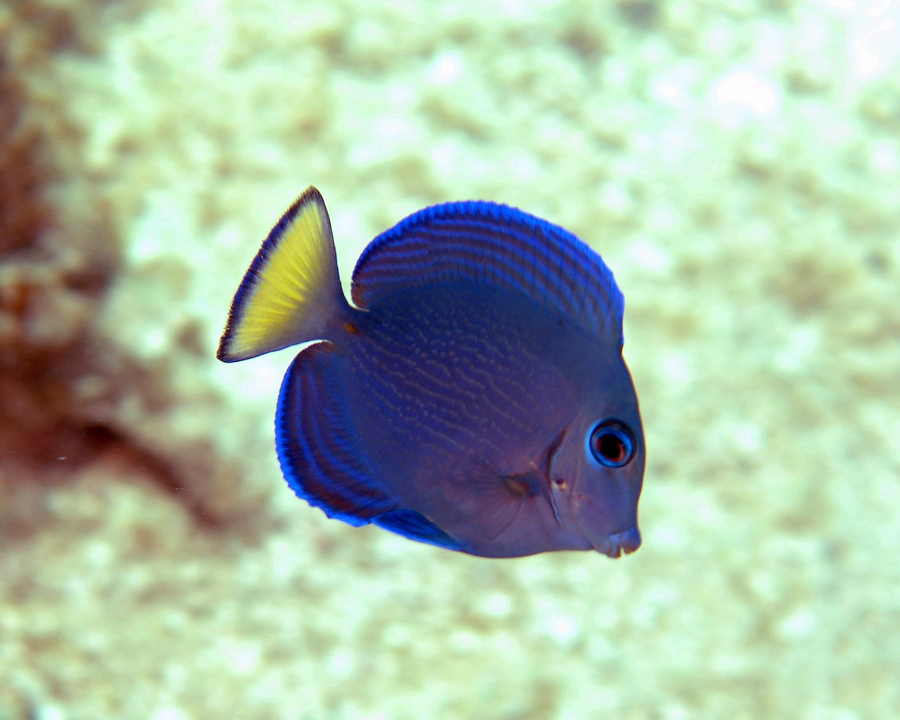Acanthurus_coeruleus: (209, 175, 653, 570)
